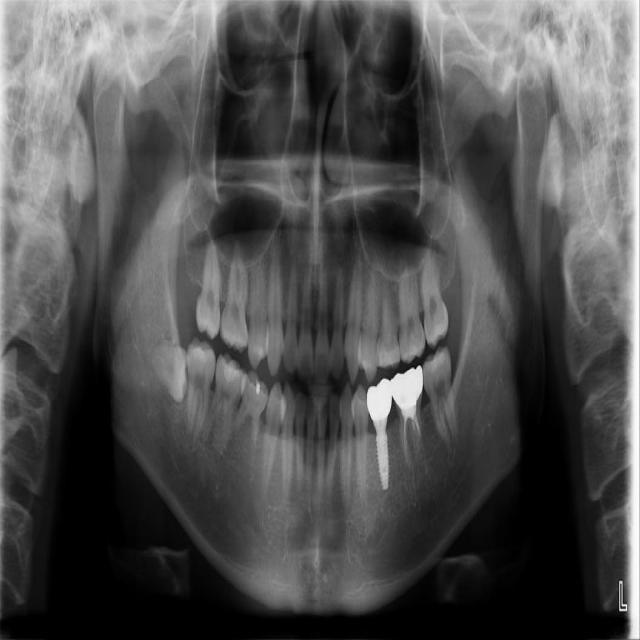Crown: (391, 365, 423, 412), (366, 376, 391, 423)
Filling: (219, 356, 241, 385), (378, 342, 402, 367), (245, 374, 268, 400), (421, 351, 447, 374), (400, 335, 423, 360)
Implant: (374, 419, 387, 489)
Root Canal Treatment: (402, 419, 409, 458), (415, 418, 422, 443)
impacted tooth: (146, 342, 188, 403)
